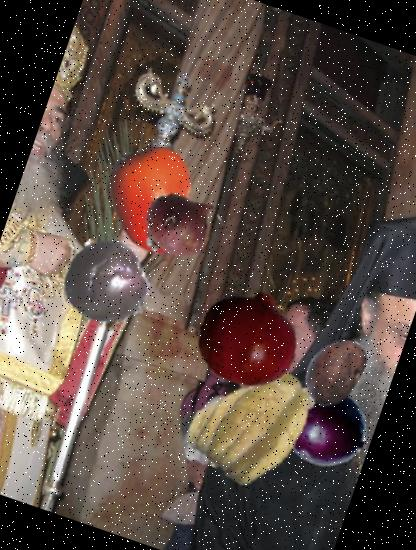Chestnut: (288, 324, 382, 418)
Kaki: (82, 132, 219, 269)
Onion: (122, 172, 232, 281)
Passion: (49, 227, 161, 339)
Physalis: (174, 340, 332, 498)
Plum: (275, 376, 378, 479)
Pomegranate: (186, 274, 314, 402)
